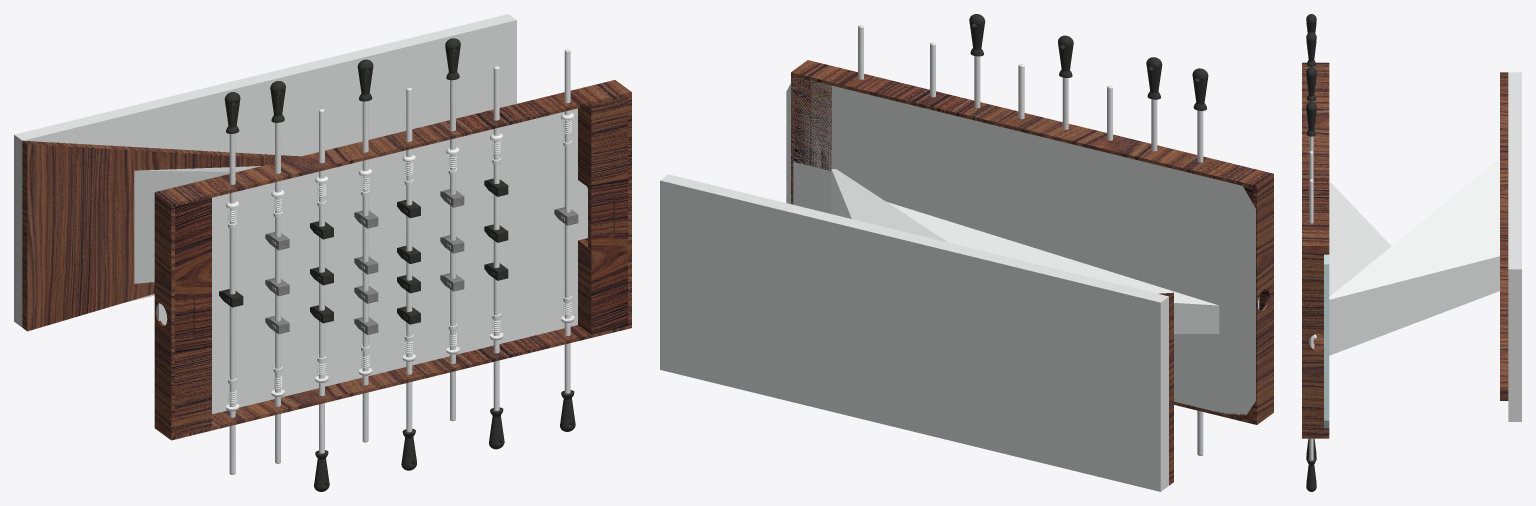
Rendered from mesa-bretda-pimbolim-opal.glb.
3 renders of one model, left to right at view 1: azimuth 30°, elevation 25°; view 2: azimuth 150°, elevation 25°; view 3: azimuth 270°, elevation 25°, orthographic. The views are drawn at different scales.
Visible parts, largest first — view 1: ID731, ID42, ID24, ID348, ID667, ID112, ID53, ID6, ID866_7, ID866_5, ID866, ID866_1 (+5 smaller); view 2: ID42, ID721, ID112, ID6, ID348, ID667, ID24, ID360, ID866_5; view 3: ID6, ID42, ID112, ID667, ID24, ID709, ID677, ID866_7, ID849_12, ID849_8, ID849_2, ID849_14.
Part boxes in pixels (x1,y1,x2,y2): ID731: (159,108,587,414); ID42: (14,14,516,327); ID24: (22,140,300,331); ID348: (154,195,211,437); ID667: (578,95,631,334); ID112: (154,80,631,207); ID53: (154,325,631,440); ID6: (134,166,260,283); ID866_7: (564,49,570,393); ID866_5: (229,133,235,474); ID866: (493,66,499,410); ID866_1: (362,101,368,442); ID42: (660,174,1168,491); ID721: (786,77,1255,415); ID112: (791,60,1273,189); ID6: (831,169,1219,334); ID348: (1216,177,1273,421); ID667: (791,75,831,170); ID24: (1158,292,1173,485); ID360: (1256,266,1270,335); ID866_5: (1197,110,1203,455); ID6: (1329,158,1499,355); ID42: (1508,72,1521,421); ID112: (1302,62,1329,248); ID667: (1302,248,1329,435); ID24: (1500,72,1508,400); ID709: (1324,254,1329,428); ID677: (1307,317,1323,366); ID866_7: (1309,179,1313,460); ID849_12: (1306,101,1316,136); ID849_8: (1306,32,1316,66); ID849_2: (1306,67,1316,101); ID849_14: (1306,457,1316,491).
Size of the model in its own units: 67.32 by 54.73 by 31.75.
Materials: 7 (4 with a texture image).
